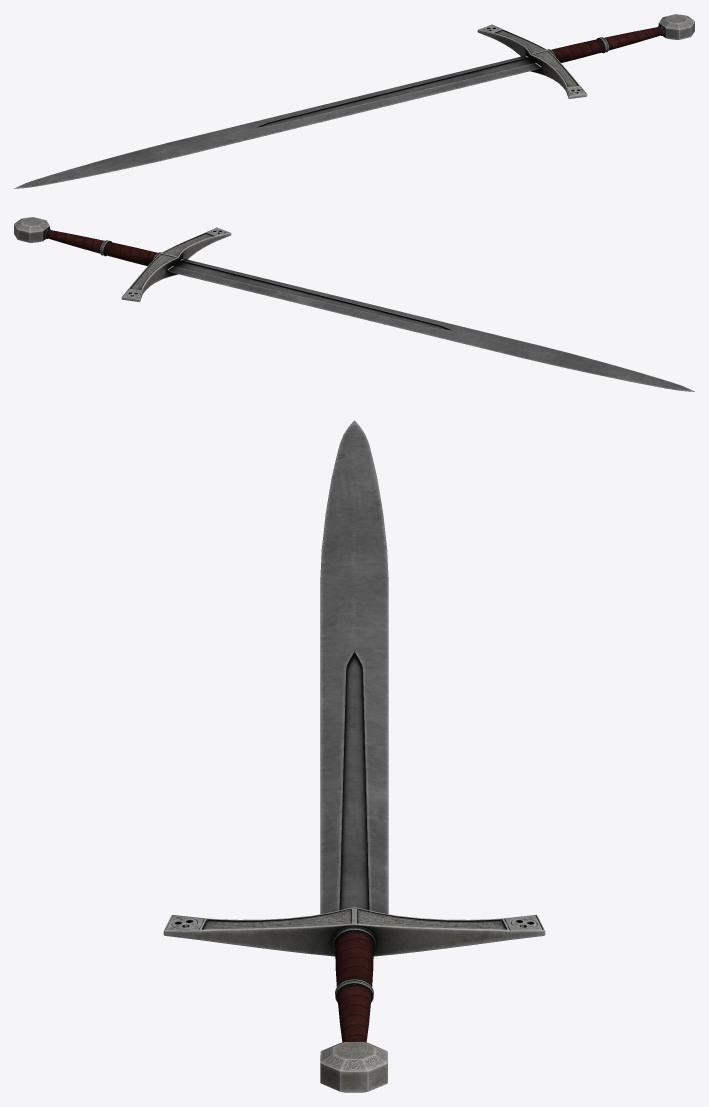
The model's file is Sword.glb.
The picture shows the model from 3 angles, top to bottom: view 1: azimuth 30°, elevation 25°; view 2: azimuth 150°, elevation 25°; view 3: azimuth 270°, elevation 25°; orthographic projection. The views are drawn at different scales.
Parts seen in each view (by area): view 1: Cube; view 2: Cube; view 3: Cube.
Part boxes in pixels (box(x1,y1,x2,y2)): Cube: box(14, 14, 694, 188); Cube: box(14, 217, 694, 391); Cube: box(163, 420, 545, 1092).
Size of the model in its own units: 833 by 20.18 by 203.
Materials: 1 (1 with a texture image).
